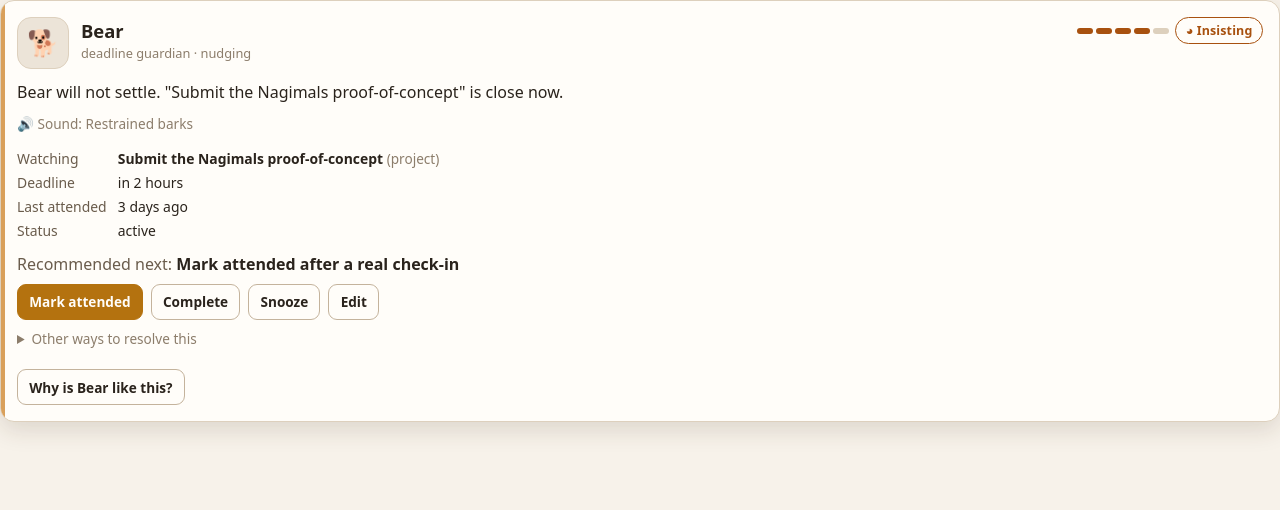
Test: NagimalCard › reveals the deterministic reasons on request
Click the button "Why is Bear like this?" at point(101, 387), box [17,369,185,405]
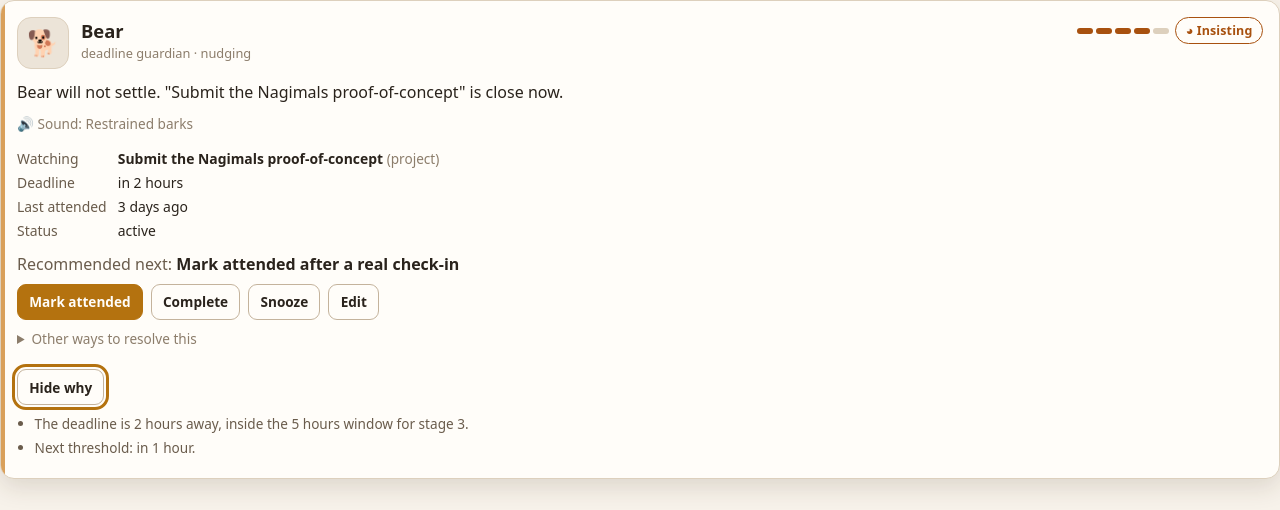
Expected: the button named "Why is Bear like this" is expanded, [17,369,104,405]
Expected: the list item "The deadline is 2 hours away" is shown, [35,414,469,433]
